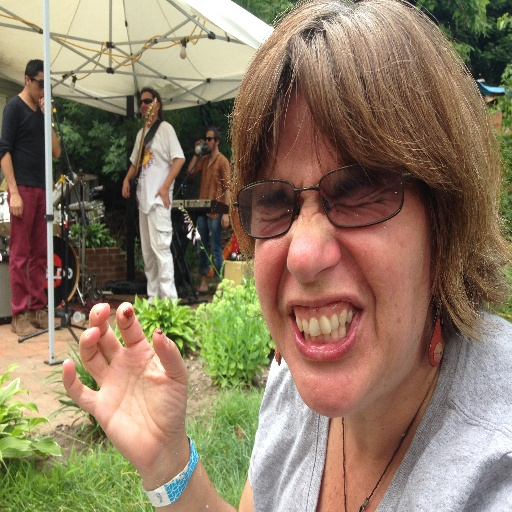hand: (69, 305, 193, 491), (154, 184, 171, 208), (8, 192, 24, 217), (37, 94, 53, 115), (120, 175, 129, 199), (220, 213, 230, 229), (192, 139, 201, 147)
